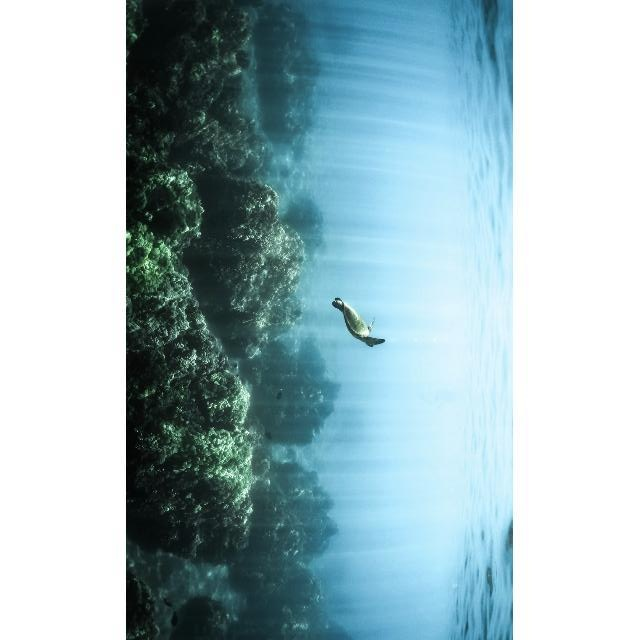turtle: (330, 298, 386, 348)
